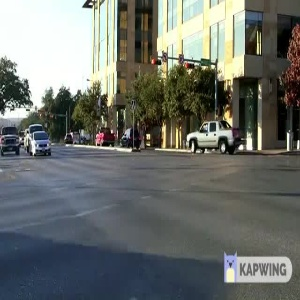car: (28, 130, 54, 156)
truck: (182, 115, 248, 155), (1, 121, 22, 155), (89, 126, 117, 147)
